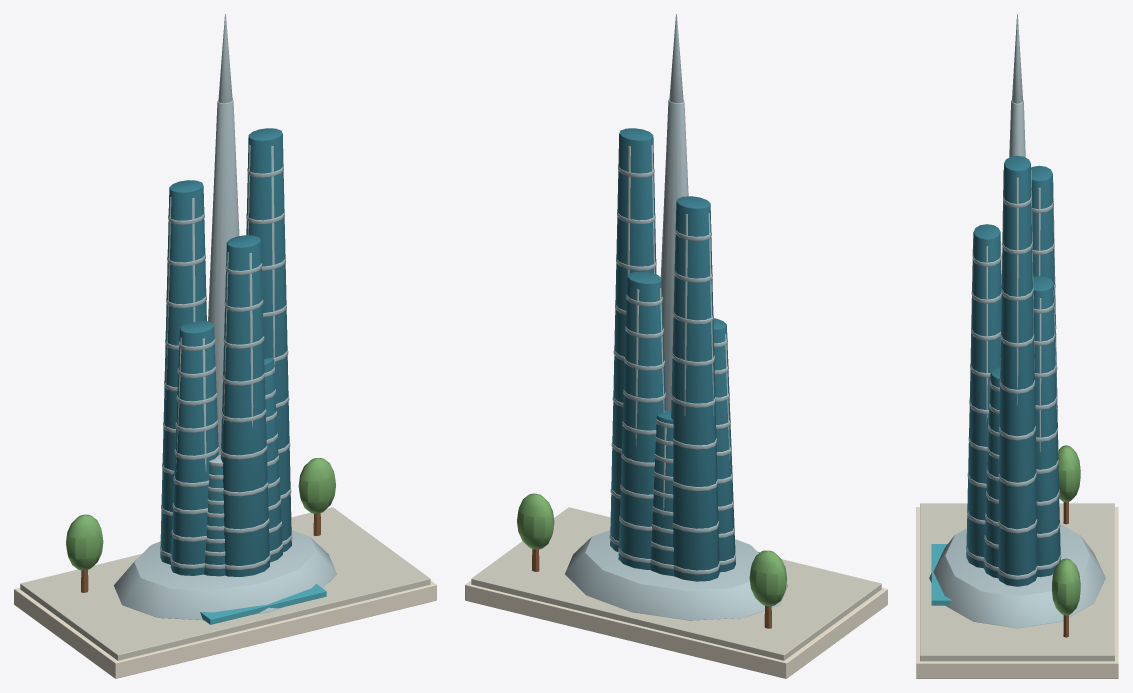
File: burj-khalifa.glb
3 renders of one model, left to right at view 1: azimuth 30°, elevation 25°; view 2: azimuth 150°, elevation 25°; view 3: azimuth 270°, elevation 25°, orthographic.
Parts seen in each view (by area): view 1: Burj Khalifa; view 2: Burj Khalifa; view 3: Burj Khalifa.
Boxes of the visible parts, <box> form: Burj Khalifa: <box>14,14,436,678</box>; Burj Khalifa: <box>465,14,887,678</box>; Burj Khalifa: <box>916,14,1118,678</box>.
Size of the model in its own units: 1.47 by 2.58 by 0.8064.
